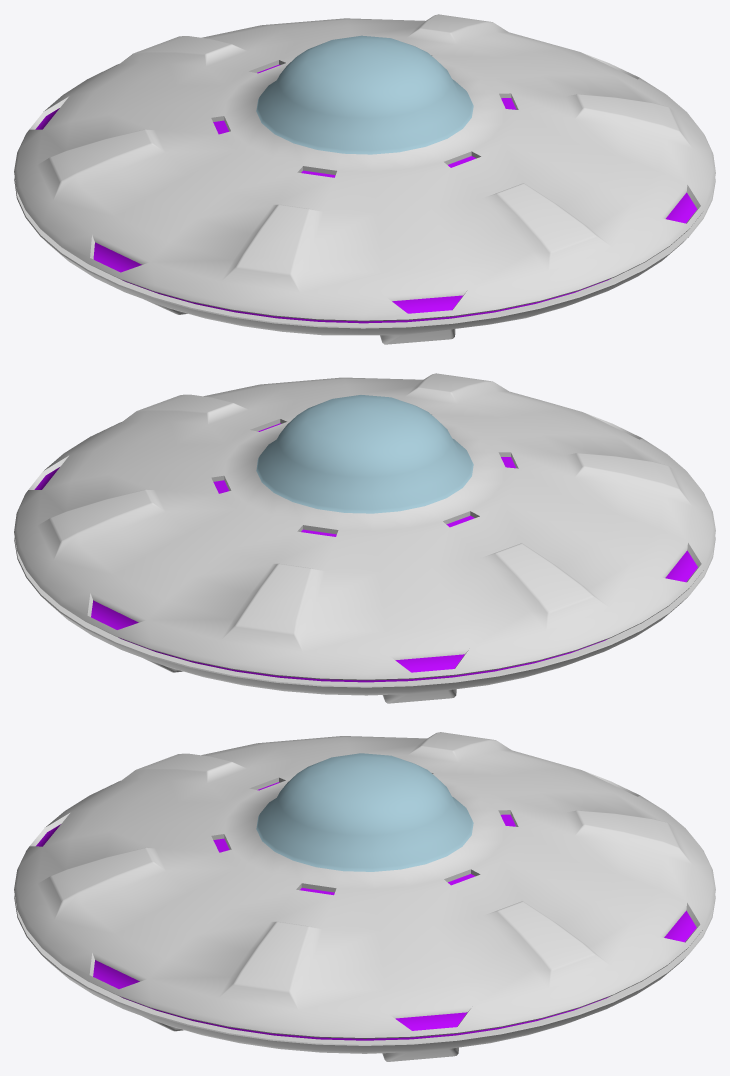
The model's file is Saucer.fbx.
3 renders of one model, top to bottom at view 1: azimuth 30°, elevation 25°; view 2: azimuth 150°, elevation 25°; view 3: azimuth 270°, elevation 25°, orthographic.
Parts seen in each view (by area): view 1: UFO; view 2: UFO; view 3: UFO.
Part boxes in pixels (box(x1,y1,x2,y2)): UFO: box(14, 14, 715, 344); UFO: box(14, 373, 715, 703); UFO: box(14, 732, 715, 1061).
Size of the model in its own units: 1181 by 460 by 1181.
